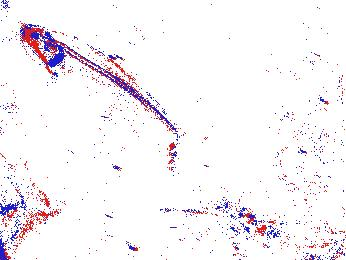glassfish: (22, 25, 208, 158)
siberian prawn: (214, 201, 346, 248)
